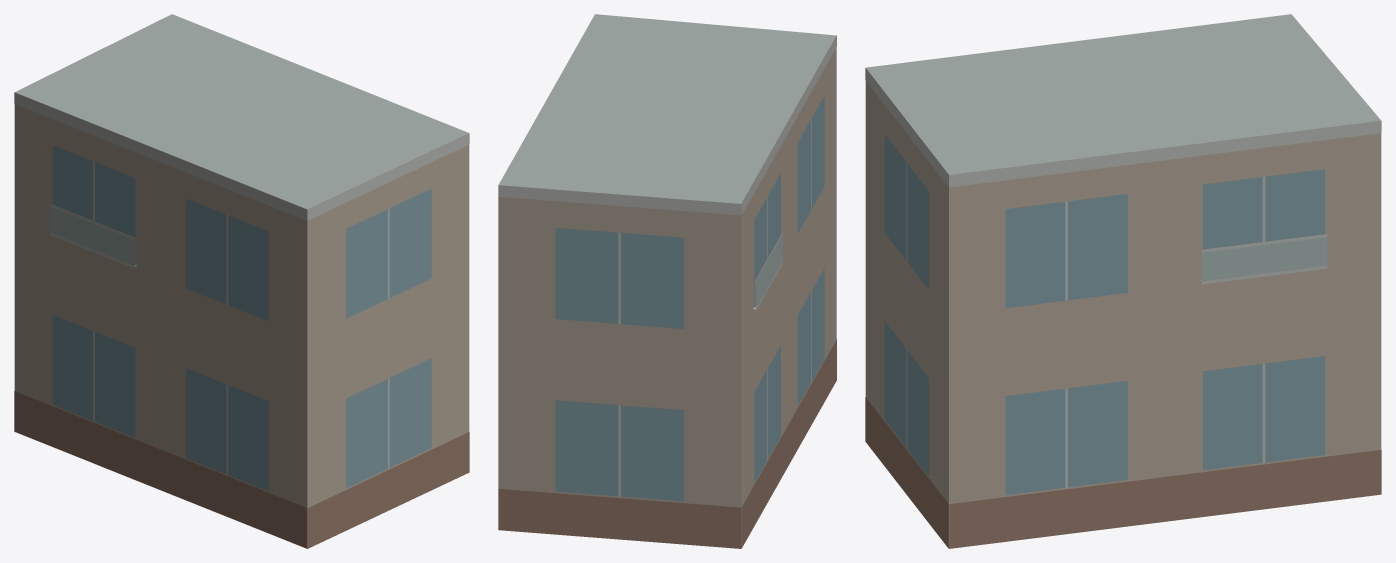
Rendered from survey-upis-32462268.glb.
The picture shows the model from 3 angles, left to right: view 1: azimuth 30°, elevation 25°; view 2: azimuth 150°, elevation 25°; view 3: azimuth 270°, elevation 25°; orthographic projection. The views are drawn at different scales.
Visible parts, largest first — view 1: survey-upis-32462268.tmp; view 2: survey-upis-32462268.tmp; view 3: survey-upis-32462268.tmp.
Part boxes in pixels (bbox=[...]): survey-upis-32462268.tmp: bbox=[14, 14, 469, 548]; survey-upis-32462268.tmp: bbox=[498, 14, 836, 548]; survey-upis-32462268.tmp: bbox=[865, 14, 1381, 548].
Size of the model in its own units: 6.75 by 7.3 by 9.14.
